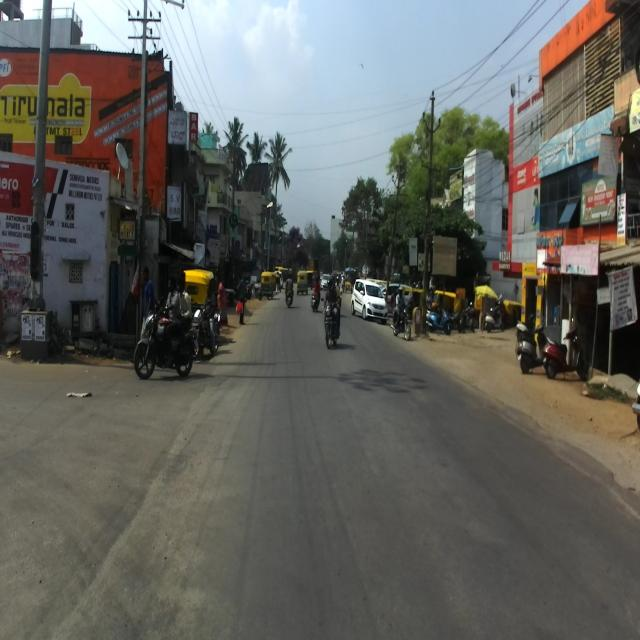motorcycle_Hero: (193, 305, 221, 360), (321, 295, 342, 349)
motorcycle_TVS: (133, 297, 195, 379)
scooter: (543, 317, 588, 381)
